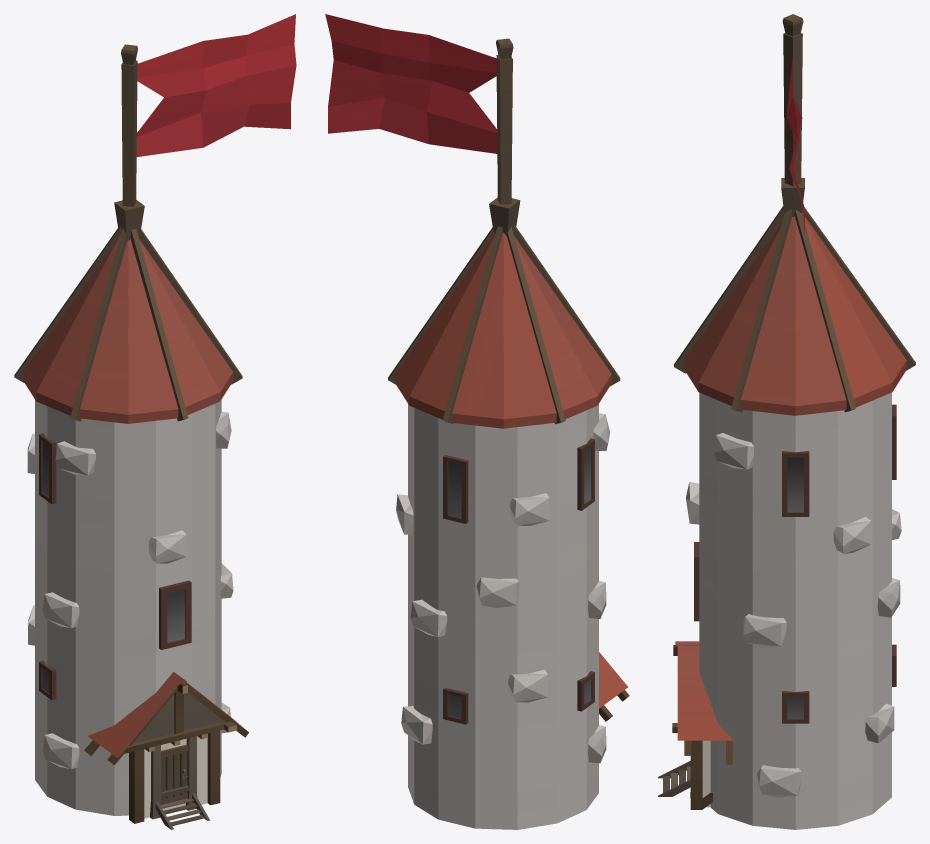
Rendered from Towers.fbx.
3 views of the same model, side by side, from view 1: azimuth 30°, elevation 25°; view 2: azimuth 150°, elevation 25°; view 3: azimuth 270°, elevation 25° (orthographic). The views are drawn at different scales.
Visible parts, largest first — view 1: polySurface9780; view 2: polySurface9780; view 3: polySurface9780.
Part boxes in pixels (box(x1,y1,x2,y2)): polySurface9780: box(14, 14, 296, 829); polySurface9780: box(325, 14, 629, 829); polySurface9780: box(658, 14, 915, 829).
Bounding box in the file's own units: 519 × 1376 × 418.
